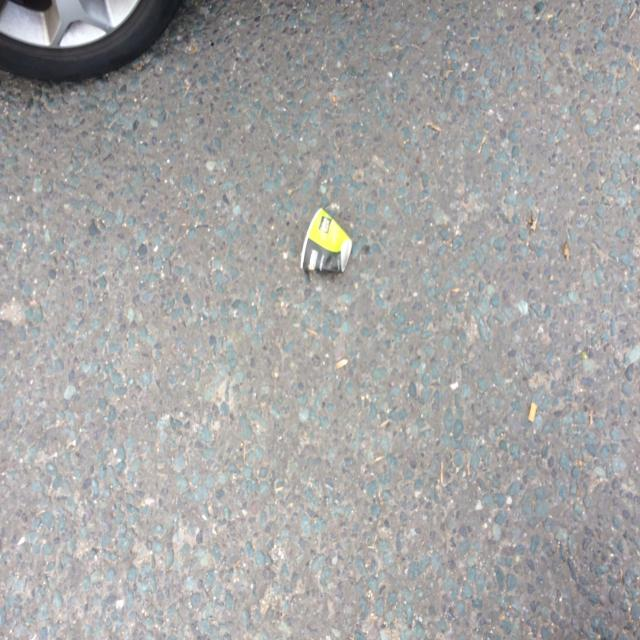Paper cup: (301, 207, 352, 272)
